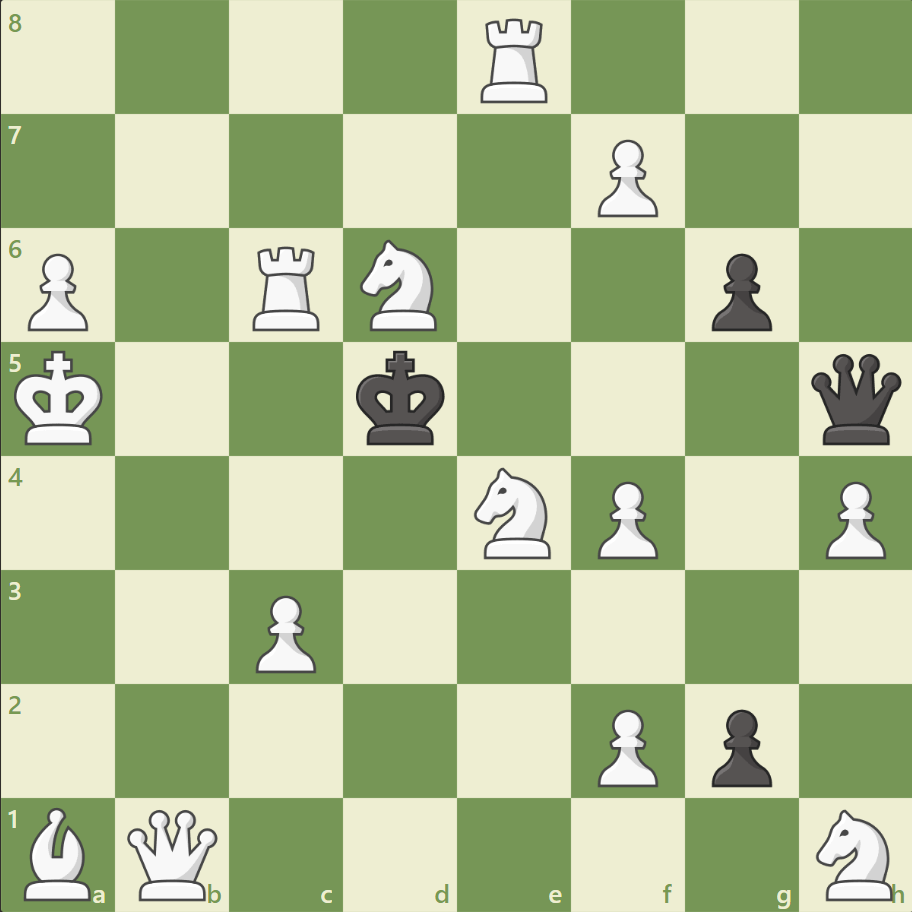B: (17, 801, 101, 904)
K: (11, 344, 111, 452)
N: (351, 234, 449, 337), (465, 461, 562, 564), (806, 802, 903, 904)
P: (20, 246, 95, 337), (247, 586, 322, 677), (588, 132, 662, 223), (588, 473, 662, 564), (815, 473, 889, 564), (588, 700, 662, 791)
Q: (124, 804, 223, 903)
R: (473, 12, 556, 109), (246, 239, 329, 336)
k: (351, 344, 451, 452)
p: (701, 246, 776, 337), (701, 700, 776, 791)
q: (805, 349, 904, 449)
